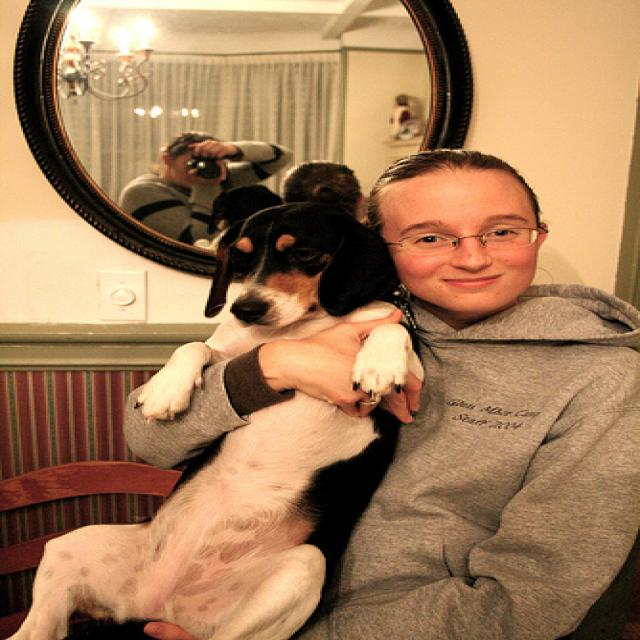dog-beagle: (123, 197, 429, 422)
